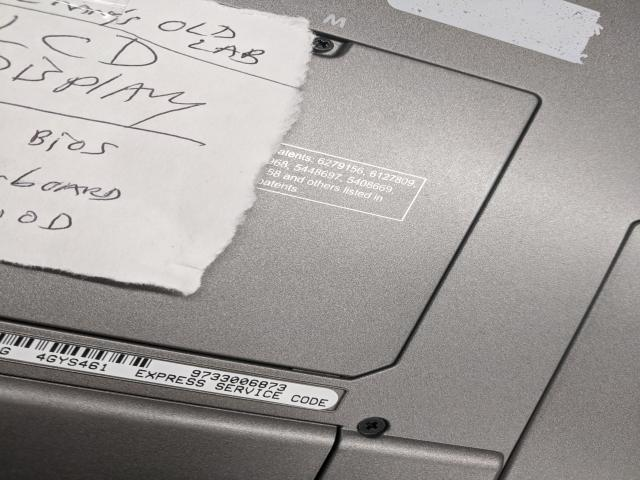CRS: (354, 415, 396, 438), (312, 35, 338, 53)
